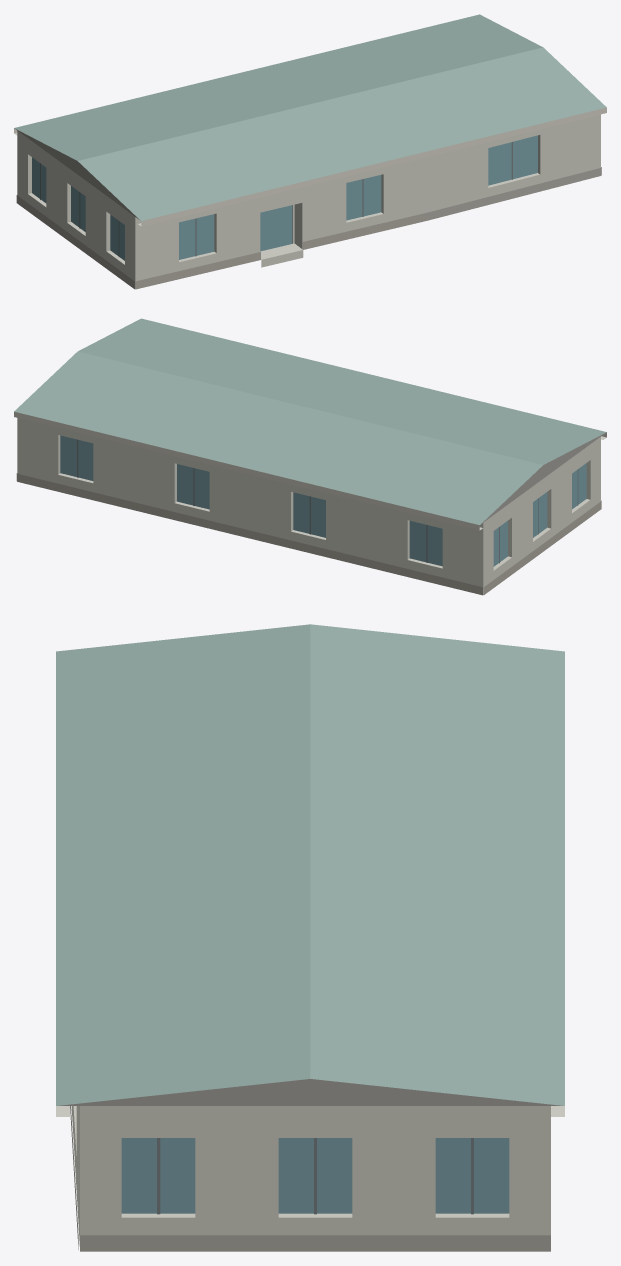
3 views of the same model, one above another, from view 1: azimuth 30°, elevation 25°; view 2: azimuth 150°, elevation 25°; view 3: azimuth 270°, elevation 25° (orthographic). The views are drawn at different scales.
Parts seen in each view (by area): view 1: aux778946320__roofAccent, aux778946320__wall, aux778946320__glass, aux778946320__base, aux778946320__trim, aux778946320__wall2, aux778946320__entranceThreshold_0, aux778946320__frame; view 2: aux778946320__roofAccent, aux778946320__wall, aux778946320__glass, aux778946320__base, aux778946320__trim, aux778946320__wall2, aux778946320__frame; view 3: aux778946320__roofAccent, aux778946320__wall, aux778946320__glass, aux778946320__base, aux778946320__wall2.
Boxes of the visible parts, <box> form: aux778946320__roofAccent: <box>14,14,606,220</box>; aux778946320__wall: <box>17,114,600,288</box>; aux778946320__glass: <box>32,135,537,260</box>; aux778946320__base: <box>16,167,601,289</box>; aux778946320__trim: <box>14,107,606,226</box>; aux778946320__wall2: <box>14,128,140,220</box>; aux778946320__entranceThreshold_0: <box>260,243,303,267</box>; aux778946320__frame: <box>40,142,512,256</box>; aux778946320__roofAccent: <box>14,318,606,525</box>; aux778946320__wall: <box>17,418,600,594</box>; aux778946320__glass: <box>60,435,586,566</box>; aux778946320__base: <box>16,473,601,595</box>; aux778946320__trim: <box>14,411,606,530</box>; aux778946320__wall2: <box>481,433,605,523</box>; aux778946320__frame: <box>77,439,578,563</box>; aux778946320__roofAccent: <box>56,624,564,1105</box>; aux778946320__wall: <box>71,1106,550,1245</box>; aux778946320__glass: <box>121,1138,509,1213</box>; aux778946320__base: <box>70,1106,550,1251</box>; aux778946320__wall2: <box>58,1079,562,1105</box>.
Size of the model in its own units: 26.99 by 5.15 by 12.73.
